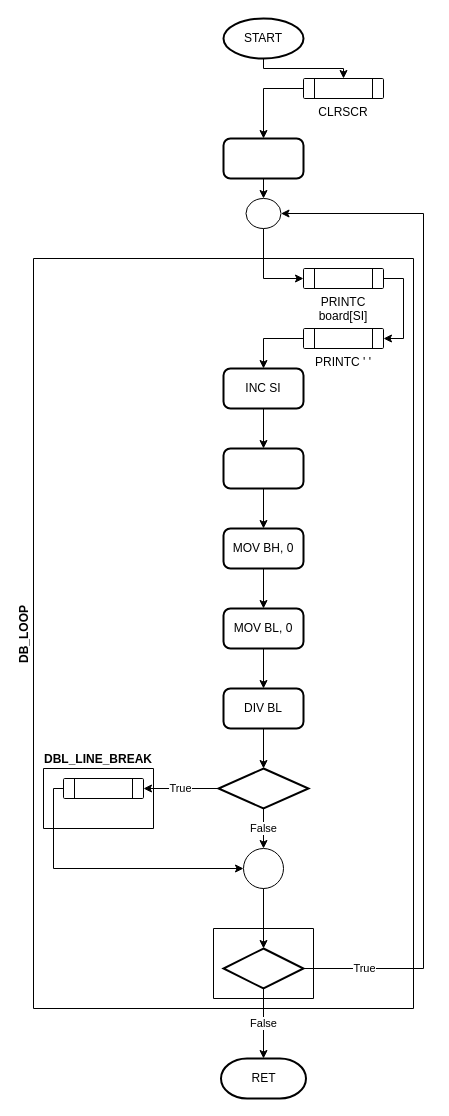
The diagram is 449 pixels wide and 1116 high, and some of its shapes have lost their labels. The box of each missing label's shape, as (x1, y1, x2, y2) in pixels:
AH == 0: (217, 767, 309, 809)
DBL_FLOW: (212, 928, 314, 998)
LINE_BREAK: (62, 778, 144, 798)
MOV AX, SI: (222, 447, 304, 489)
MOV SI, 0: (222, 137, 304, 179)
SI < 64: (222, 947, 304, 989)
